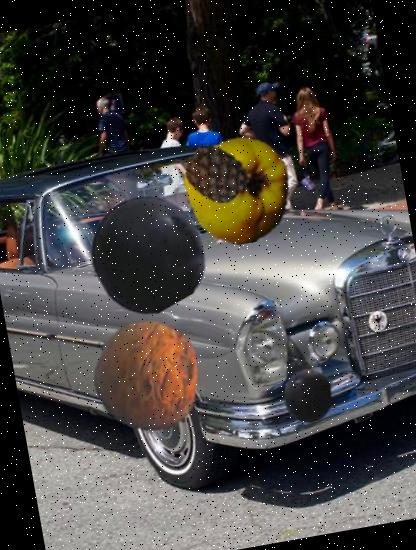Grape: (80, 185, 214, 319), (276, 364, 339, 427)
Pineapple: (181, 138, 252, 209)
Quince: (175, 127, 301, 253)
Walnut: (86, 311, 213, 438)
